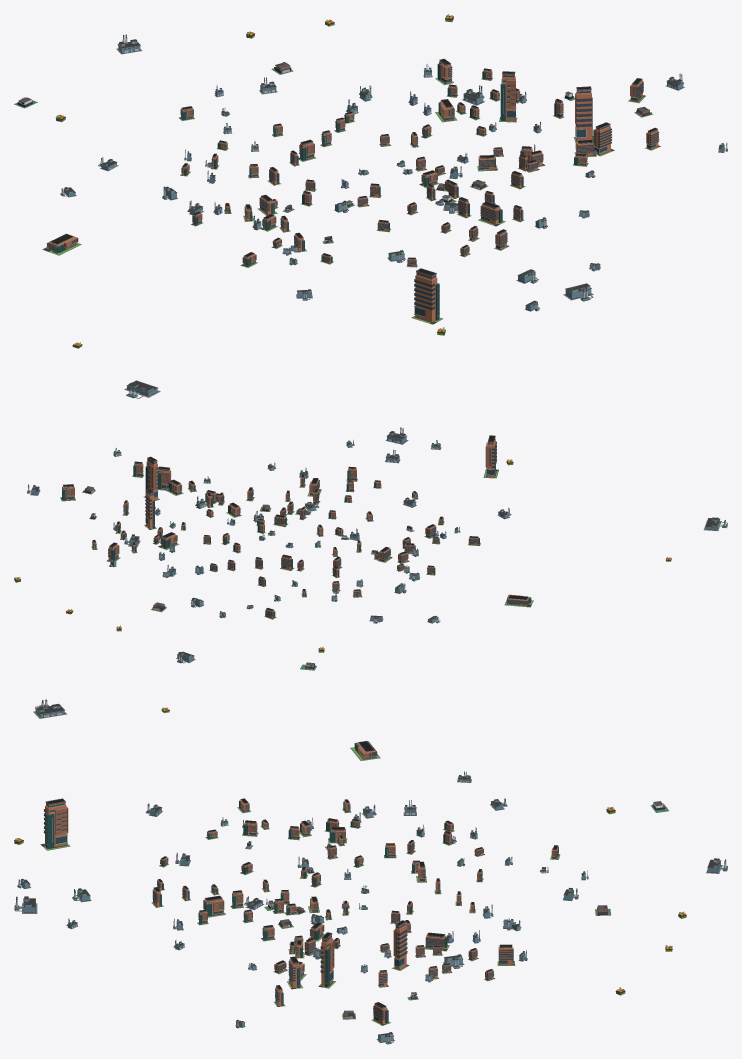
The model's file is tokyo2.glb.
The picture shows the model from 3 angles, top to bottom: view 1: azimuth 30°, elevation 25°; view 2: azimuth 150°, elevation 25°; view 3: azimuth 270°, elevation 25°; orthographic projection. The views are drawn at different scales.
Visible parts, largest first — view 1: tokyo; view 2: tokyo; view 3: tokyo.
Part boxes in pixels (<box>): tokyo: <box>14,14,727,398</box>; tokyo: <box>14,427,727,670</box>; tokyo: <box>14,699,727,1044</box>.
Bounding box in the file's own units: 1731 × 116 × 1539.
8 materials, 8 textured.
